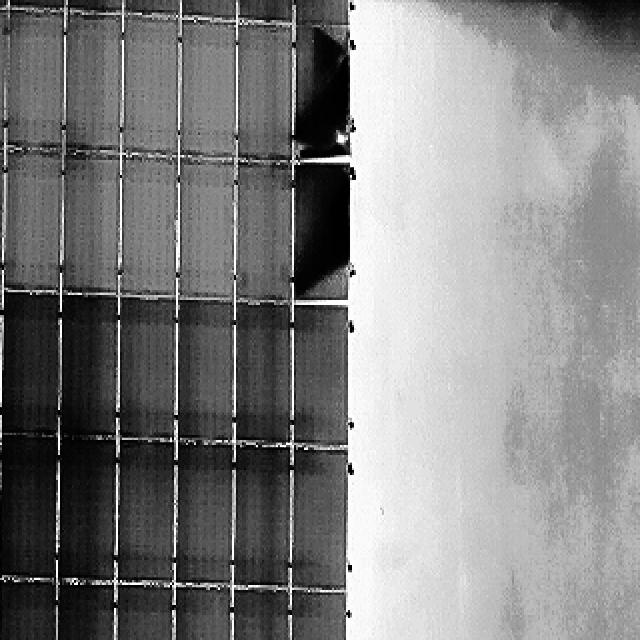Hotspots: (336, 124, 354, 152)
PV-modules: (2, 299, 64, 443), (110, 445, 172, 589), (57, 442, 117, 588), (294, 167, 356, 308), (1, 432, 61, 577), (5, 148, 66, 290), (59, 302, 119, 446), (114, 303, 174, 447), (176, 304, 236, 448), (293, 452, 352, 596), (294, 310, 353, 454), (177, 164, 237, 304), (60, 158, 119, 300), (176, 447, 234, 591), (115, 161, 174, 302), (230, 450, 288, 593), (231, 308, 288, 452), (8, 8, 67, 147), (179, 19, 238, 158), (296, 21, 356, 157), (117, 21, 175, 160), (62, 11, 120, 149), (232, 167, 288, 308), (233, 21, 289, 158), (0, 585, 60, 640), (54, 587, 114, 640), (108, 590, 170, 640), (174, 590, 232, 640), (290, 595, 350, 640), (228, 592, 284, 640), (291, 0, 350, 27), (235, 0, 293, 25), (176, 0, 237, 22), (118, 0, 178, 18), (62, 0, 120, 16), (6, 0, 66, 14), (0, 5, 2, 143)
